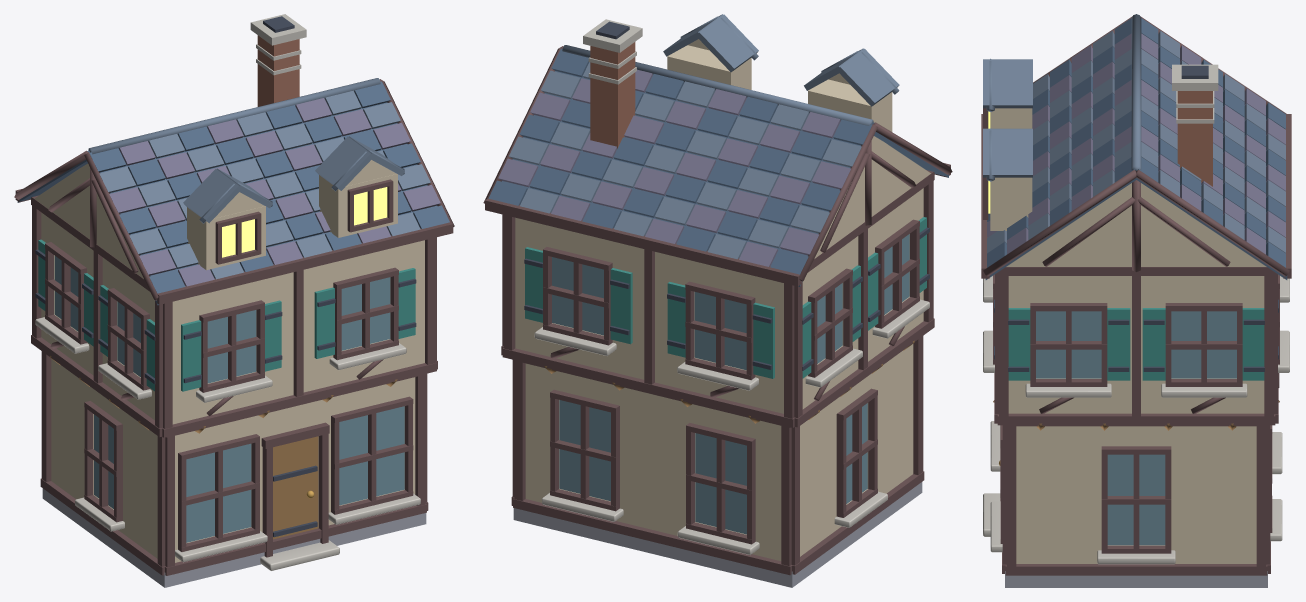
Rendered from house_C.glb.
3 renders of one model, left to right at view 1: azimuth 30°, elevation 25°; view 2: azimuth 150°, elevation 25°; view 3: azimuth 270°, elevation 25°, orthographic. The views are drawn at different scales.
Parts seen in each view (by area): view 1: glass_house_C_front_floor0_window1, glass_house_C_front_floor0_window0, house_C_stone_footing, house_C_front_oak_door, house_C_eave_fascia, house_C_front_beam.002, house_C_left_wall.006, house_C_left_wall.001, house_C_gable_infill.001, house_C_front_beam, house_C_russet_chimney, glass_house_C_front_floor1_window0 (+127 smaller); view 2: house_C_back_wall.006, house_C_stone_footing, house_C_eave_fascia.001, house_C_russet_chimney, glass_house_C_back_floor0_window1, glass_house_C_back_floor0_window0, house_C_back_beam.002, house_C_left_wall.006, house_C_gable_infill.001, house_C_left_wall.001, house_C_back_beam, house_C_thick_slate_slope.001 (+151 smaller); view 3: house_C_gable_infill, house_C_right_wall.001, house_C_right_wall.006, glass_house_C_right_floor0_window0, glass_house_C_right_floor1_window0, glass_house_C_right_floor1_window1, house_C_right_beam.002, house_C_stone_footing, house_C_right_beam, house_C_russet_chimney, house_C_right_beam.003, house_C_dormer_roof.003 (+67 smaller).
Part boxes in pixels (x1,y1,x2,y2): glass_house_C_front_floor0_window1: (339,406,404,505); glass_house_C_front_floor0_window0: (186,443,251,542); house_C_stone_footing: (42,488,426,587); house_C_front_oak_door: (273,436,318,539); house_C_eave_fascia: (157,222,453,304); house_C_front_beam.002: (162,362,436,437); house_C_left_wall.006: (123,429,157,541); house_C_left_wall.001: (51,377,93,494); house_C_gable_infill.001: (34,163,143,278); house_C_front_beam: (165,504,426,575); house_C_russet_chimney: (257,35,299,106); glass_house_C_front_floor1_window0: (207,310,256,383); house_C_back_wall.006: (620,411,695,521); house_C_stone_footing: (513,482,922,587); house_C_eave_fascia.001: (485,198,801,286); house_C_russet_chimney: (590,42,635,148); glass_house_C_back_floor0_window1: (695,433,746,534); glass_house_C_back_floor0_window0: (559,400,610,501); house_C_back_beam.002: (502,348,794,427); house_C_left_wall.006: (867,363,913,488); house_C_gable_infill.001: (814,136,930,258); house_C_left_wall.001: (800,419,836,538); house_C_back_beam: (513,498,791,575); house_C_thick_slate_slope.001: (502,71,860,286); house_C_gable_infill: (1006,183,1266,266); house_C_right_wall.001: (1016,451,1101,545); house_C_right_wall.006: (1171,451,1253,545); glass_house_C_right_floor0_window0: (1107,454,1165,545); glass_house_C_right_floor1_window0: (1036,311,1101,378); glass_house_C_right_floor1_window1: (1171,311,1236,378); house_C_right_beam.002: (997,413,1275,425); house_C_stone_footing: (1005,571,1267,587); house_C_right_beam: (1005,564,1267,575); house_C_russet_chimney: (1177,91,1212,186); house_C_right_beam.003: (997,267,1275,275); house_C_dormer_roof.003: (983,129,1032,177).
Size of the model in its own units: 5.83 by 8.35 by 4.83.
